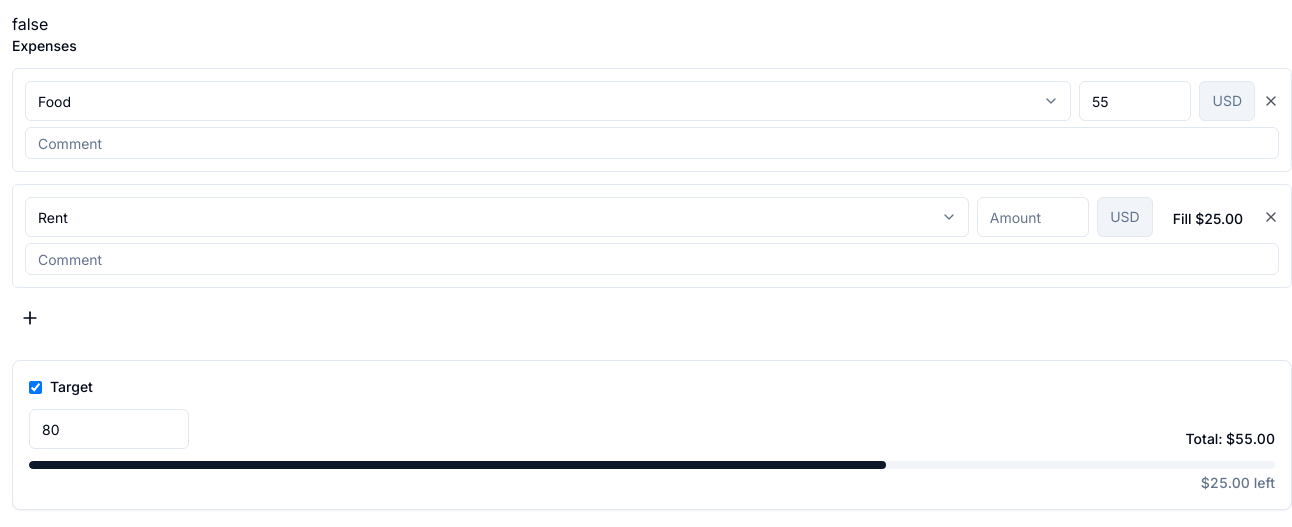
target total mode › fills an empty row to the outstanding diff
Click the button "Fill $25.00": (1208, 219) [1161,201,1255,237]
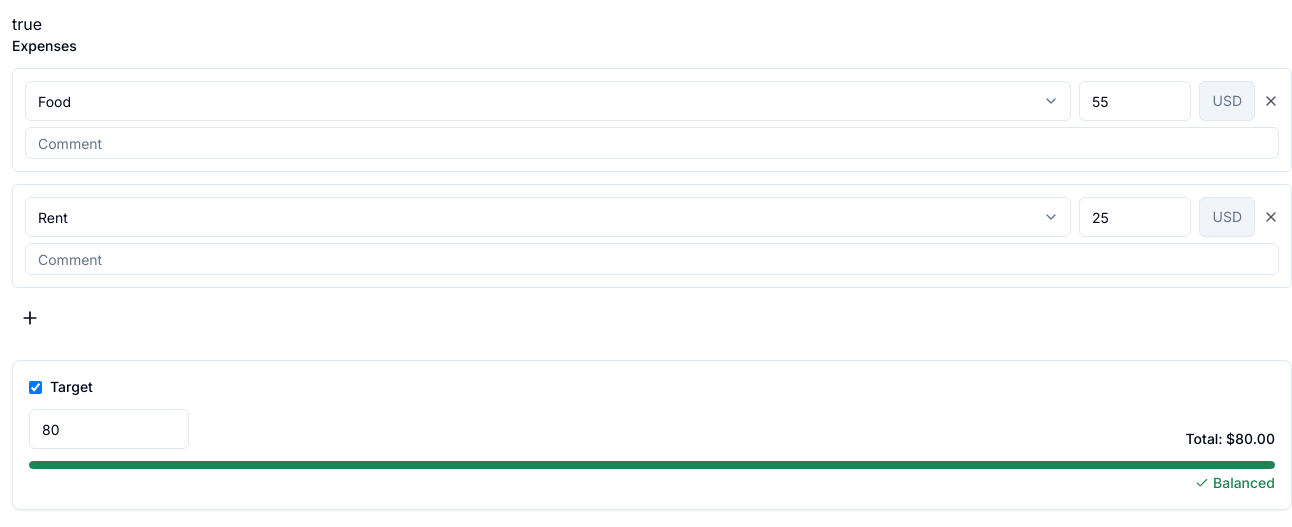
Check: the 2nd number field named "Amount" holds "25", box [1079,197,1192,237]
